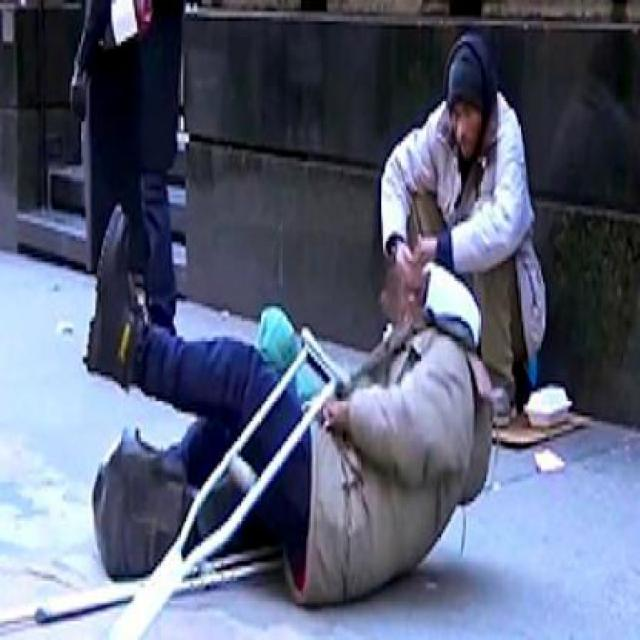fall: (66, 150, 503, 622)
